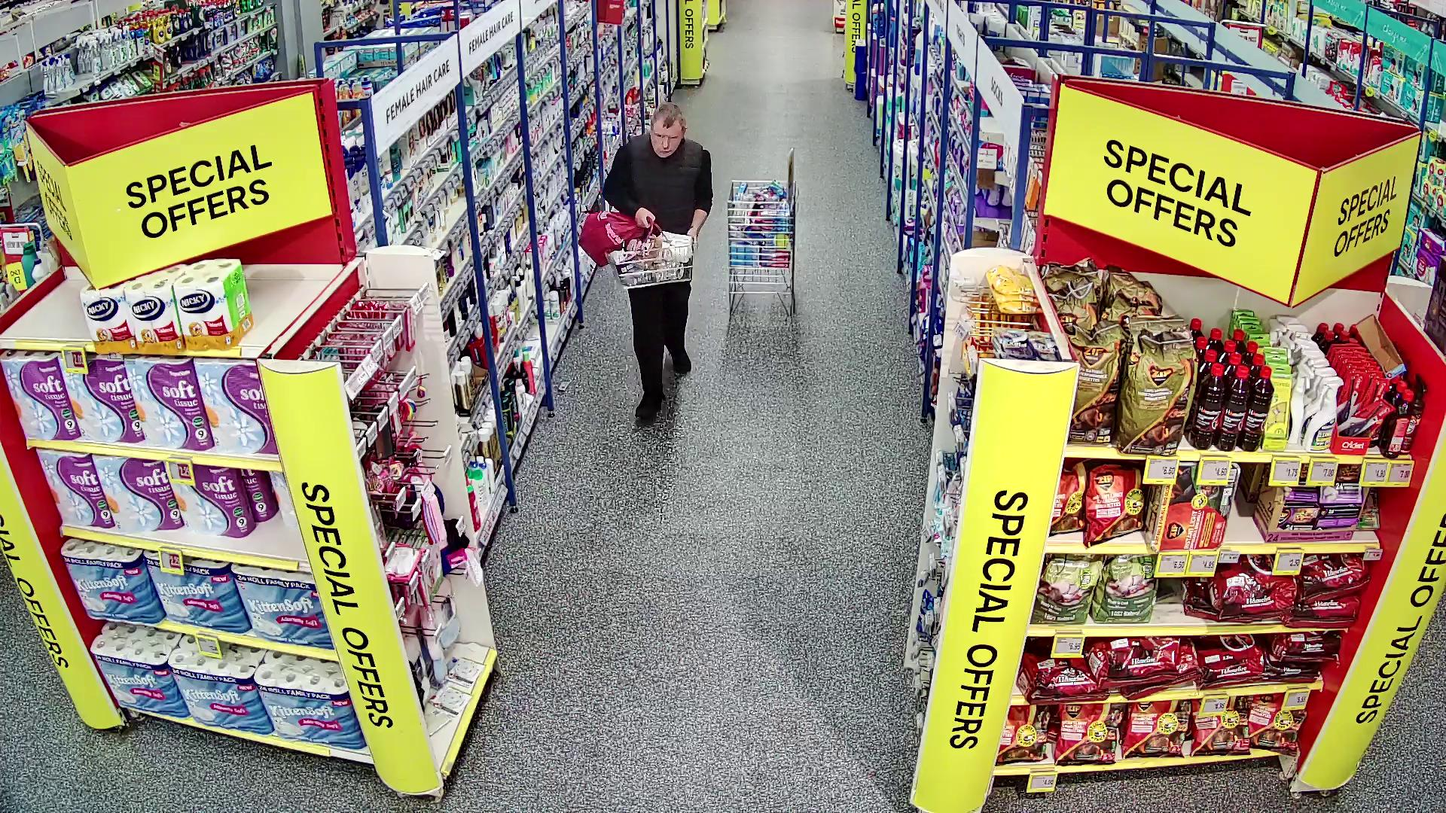filled-basket: (607, 220, 696, 288)
filled-shopping-bags: (581, 209, 644, 269)
person: (602, 103, 714, 420)
person-with-basket-trolly-and-shopping-bag: (581, 103, 715, 417)
